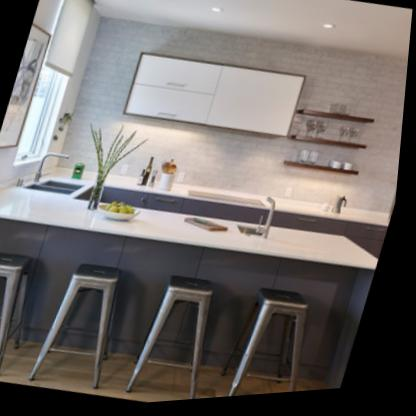Cabinet: (120, 42, 311, 153)
Dining Table: (0, 161, 389, 416)
